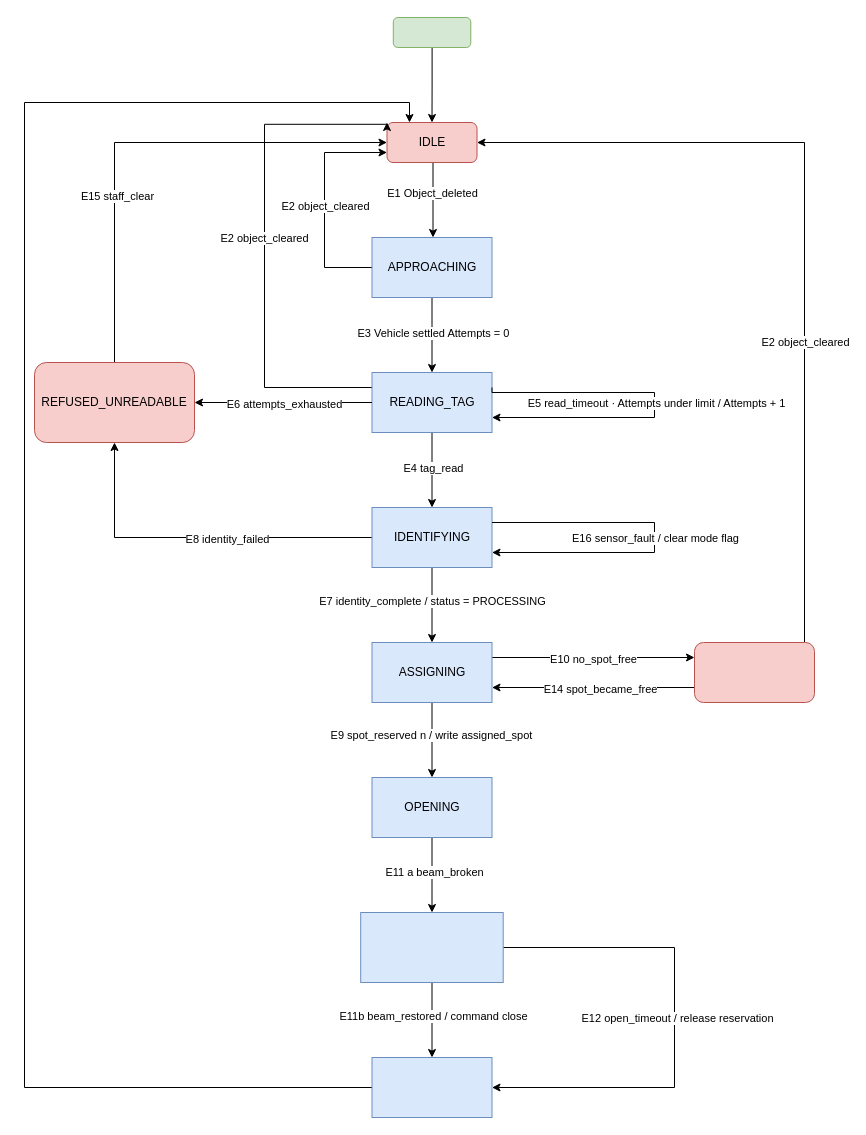
Some shapes in this 866 by 1135 pixel diagram are drawn without their labels. Each missing label, with the centre of its shape:
CLOSING: pixel 431 1087
REFUSED_FULL: pixel 754 672
Start: pixel 431 32
WAITING_CLEARANCE: pixel 431 947
